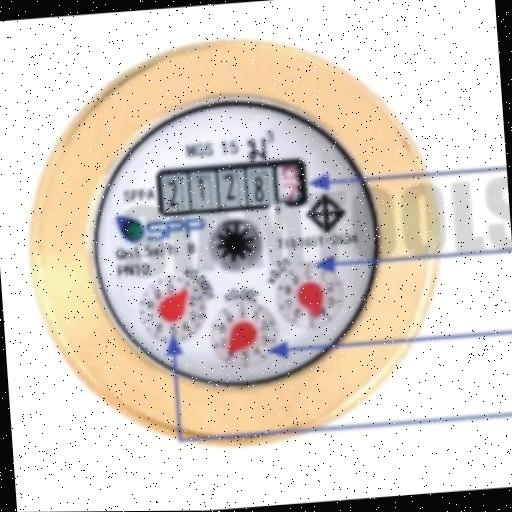1: (193, 175, 212, 209)
2: (164, 177, 183, 211), (223, 172, 240, 206)
6: (278, 164, 300, 202)
8: (250, 171, 269, 204)
border_water_meter_number: (155, 157, 310, 218)
